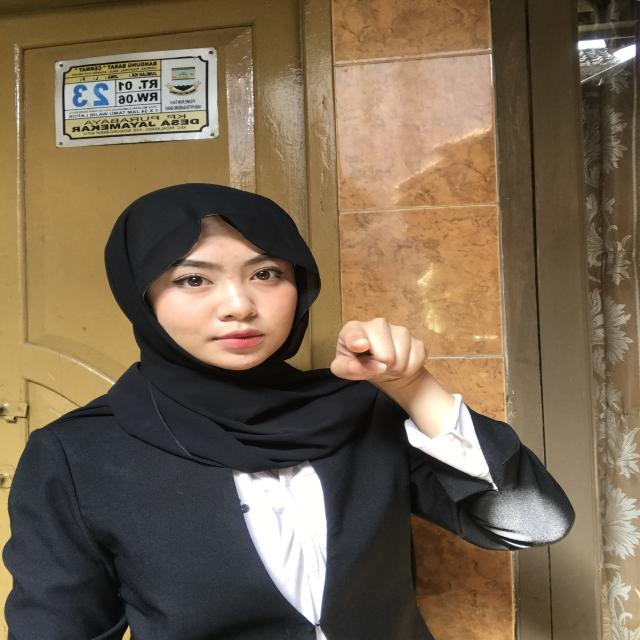kamu: (290, 298, 499, 436)
